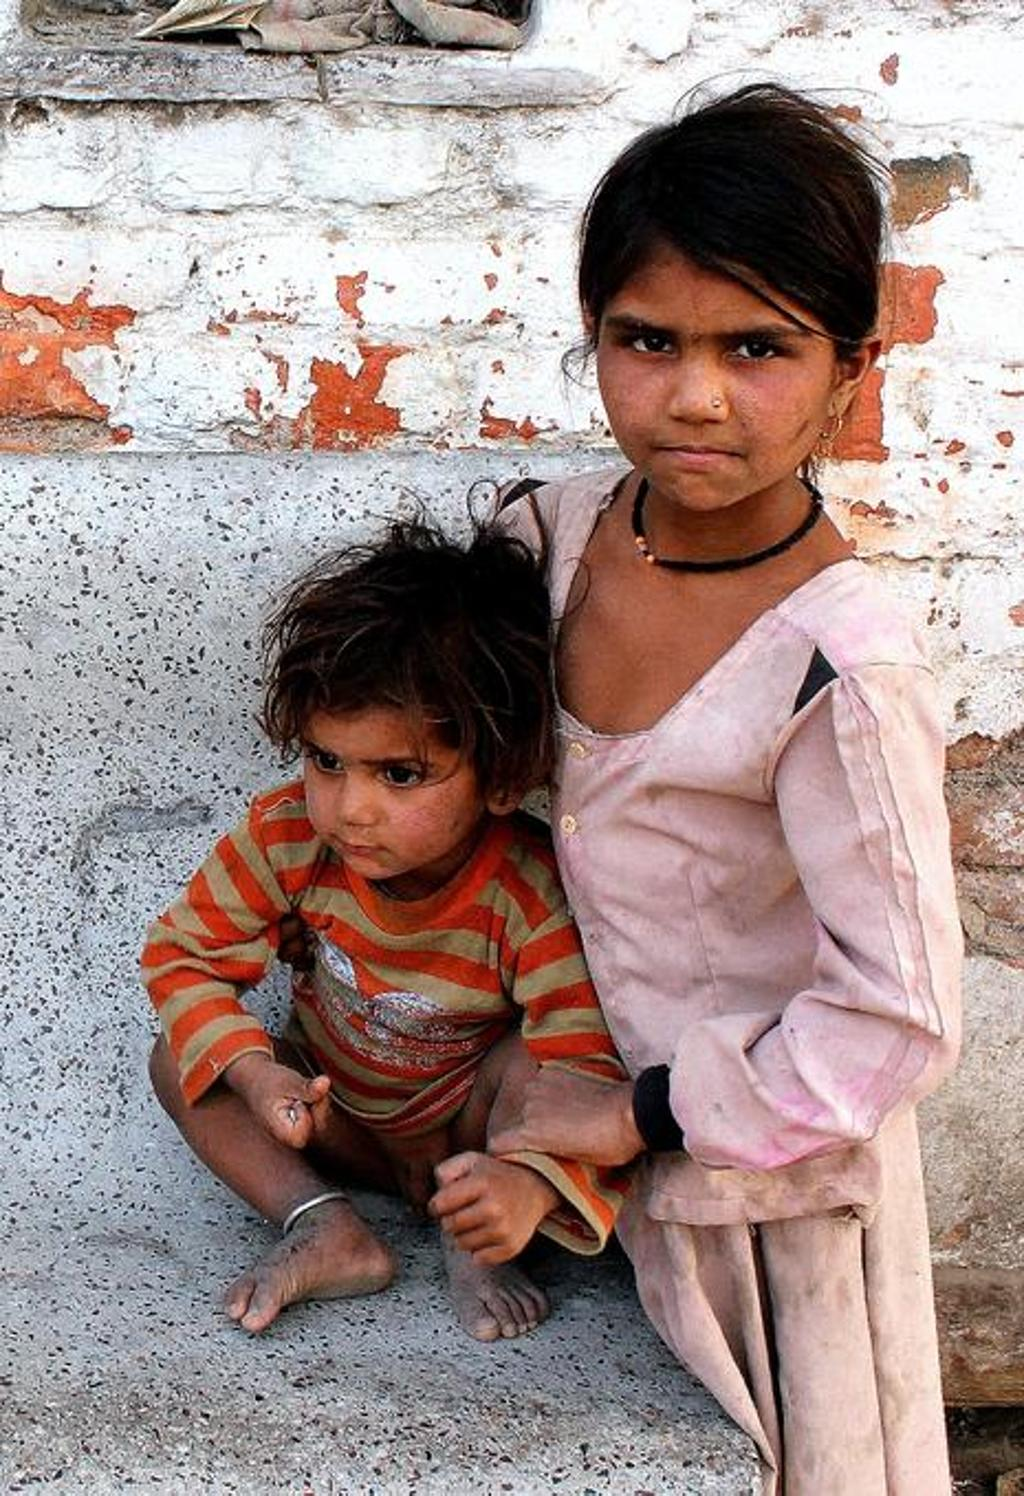face: (595, 242, 831, 499), (306, 665, 458, 884)
